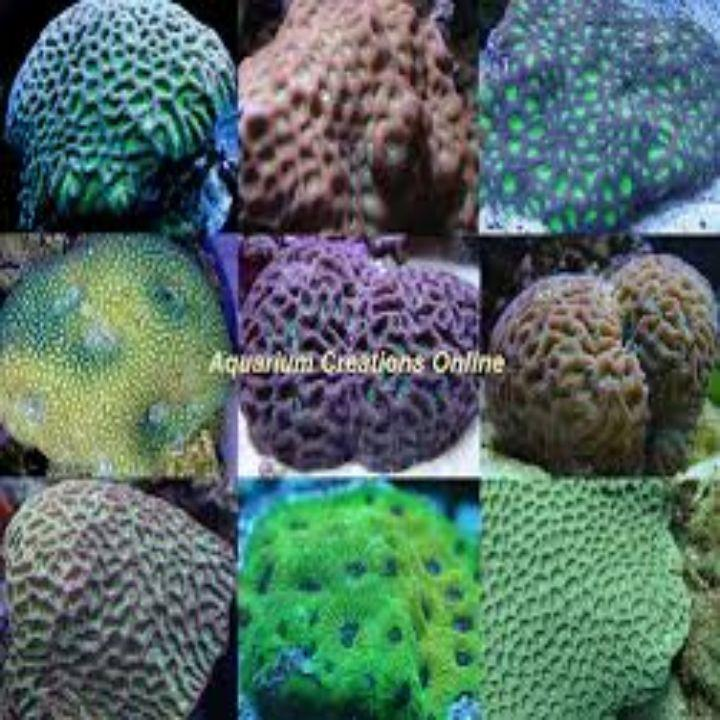Healthy Coral: (15, 17, 701, 716)
